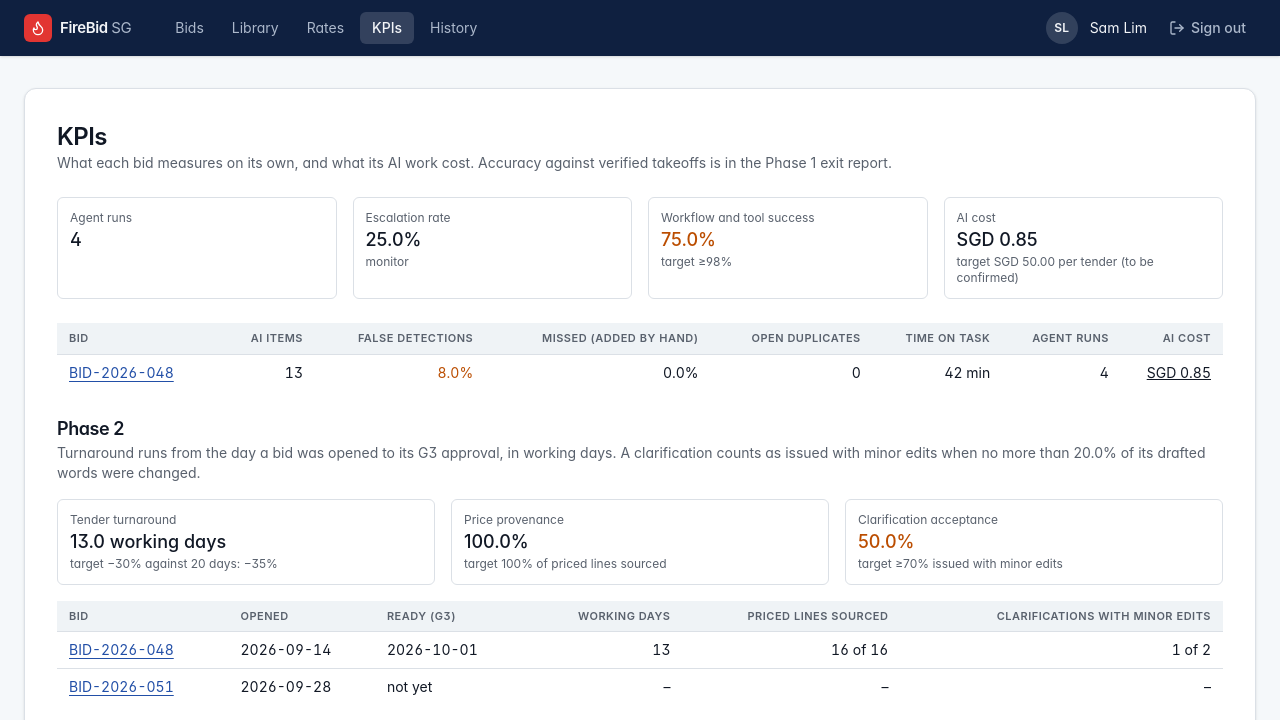
Scenario: the KPI dashboard › flags what misses its target and breaks a bid's AI cost down by route and model
The width and height of the screenshot is (1280, 720).
Expected: the element named "Totals" shows "75.0%", [661,229,716,250]
Expected: the text "BID-2026-048" shows "42 min", [57,354,1223,391]
Click the button "SGD 0.85" at (1179, 373), box [1147,363,1211,383]
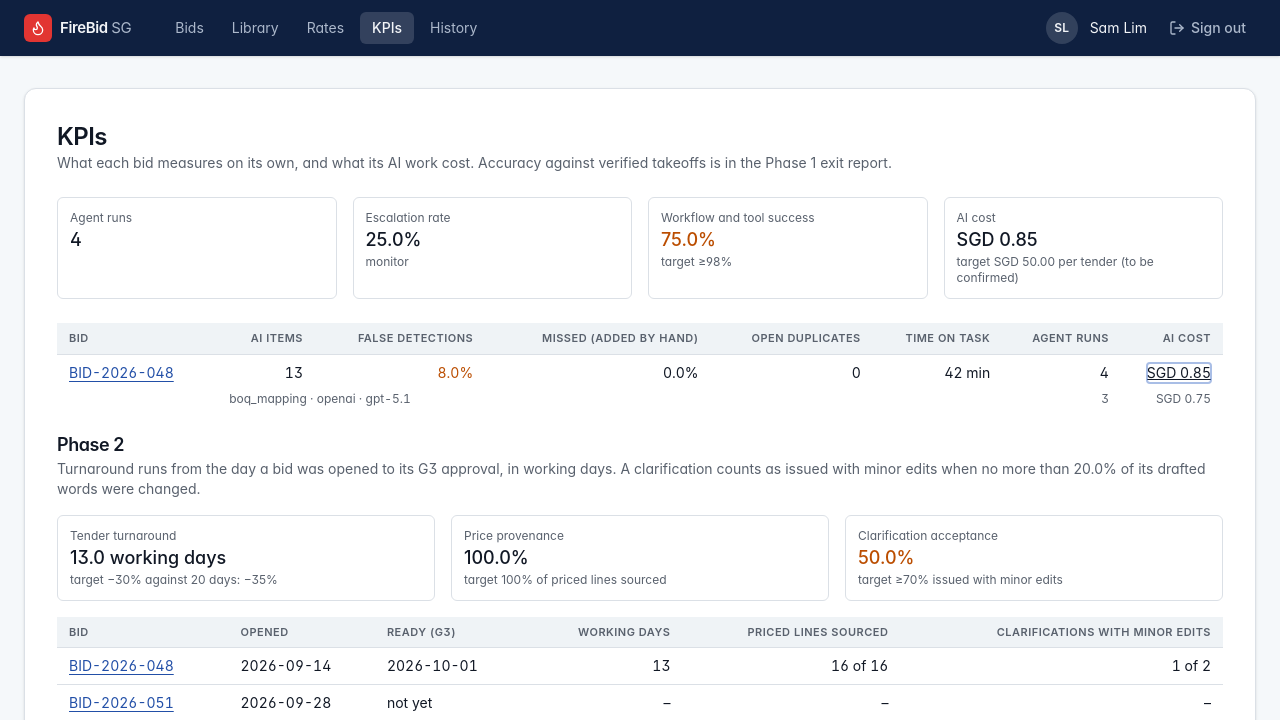
Result: the text "boq_mapping · openai · gpt-5.1" is shown at [229,391,1002,407]
